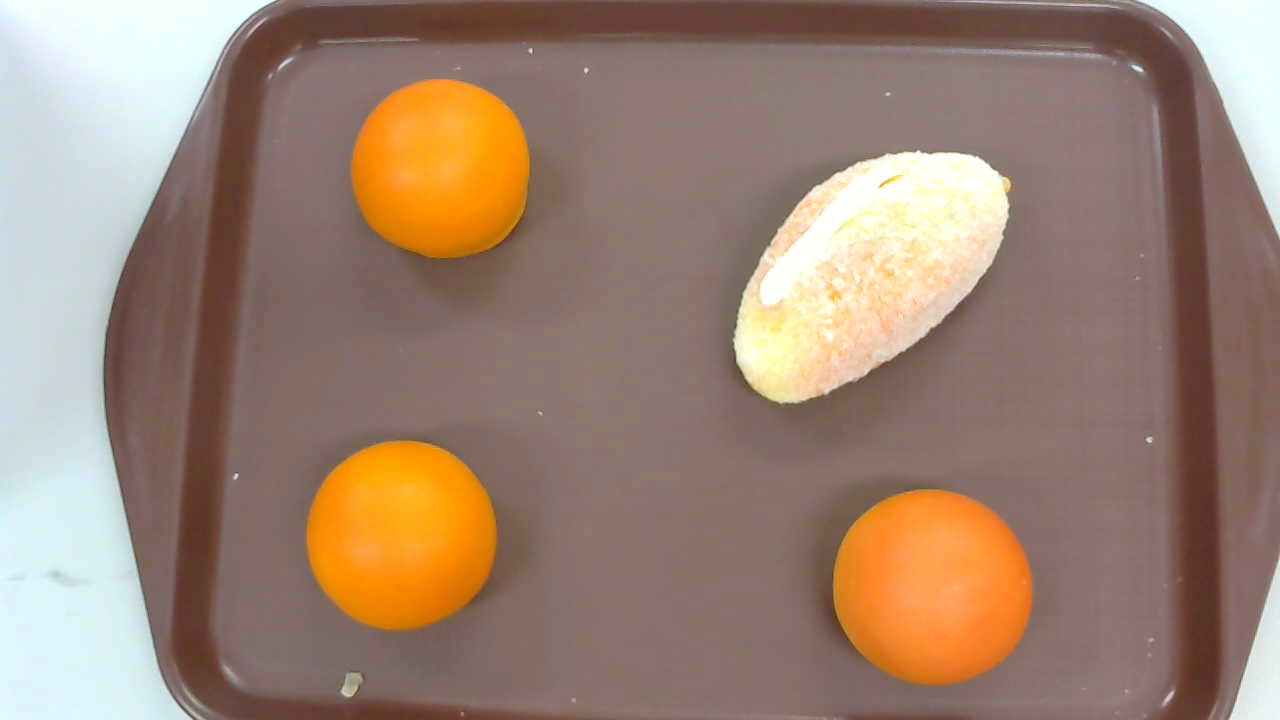bun: (831, 488, 1032, 686), (305, 441, 497, 632), (350, 78, 529, 257)
coconut: (732, 150, 1012, 406)
